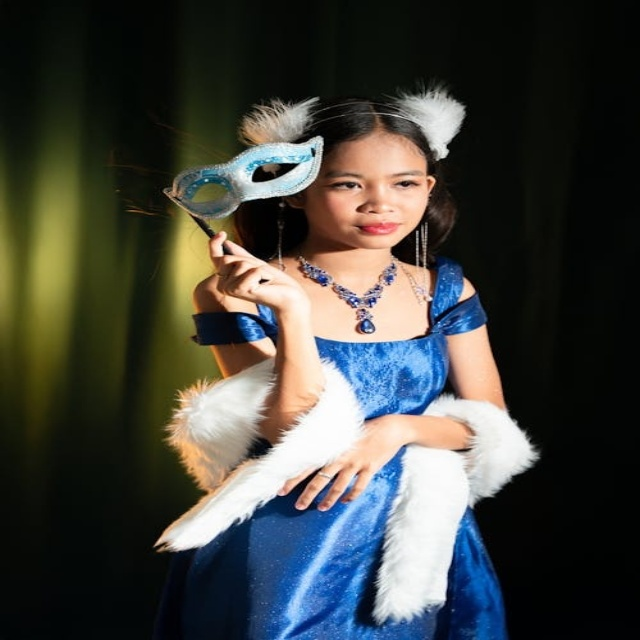Sin_gafas: (320, 164, 422, 198)
Sin_guantes: (266, 413, 408, 514), (198, 228, 308, 315)
Sin_mascara: (337, 217, 410, 245)
